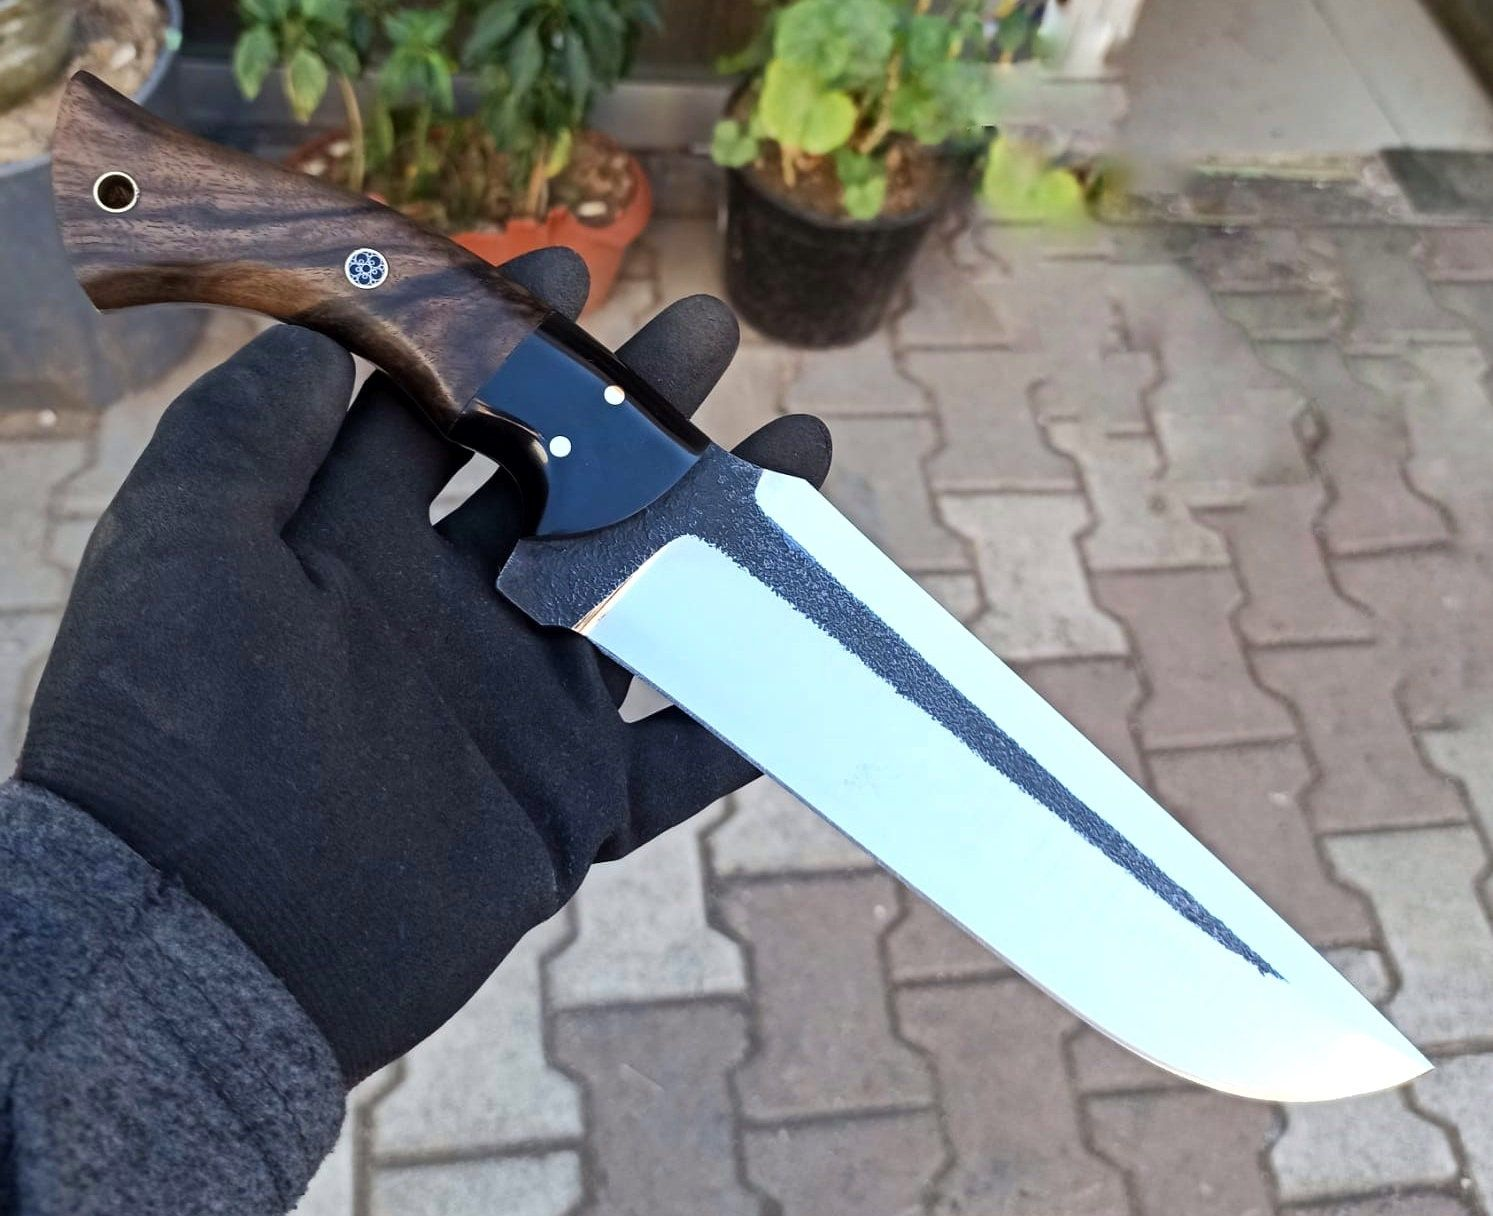knife: (37, 55, 1457, 1108)
